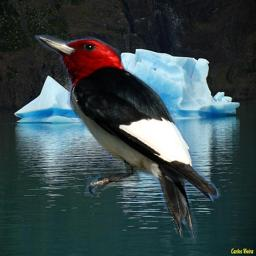Woodpecker: (32, 35, 224, 245)
